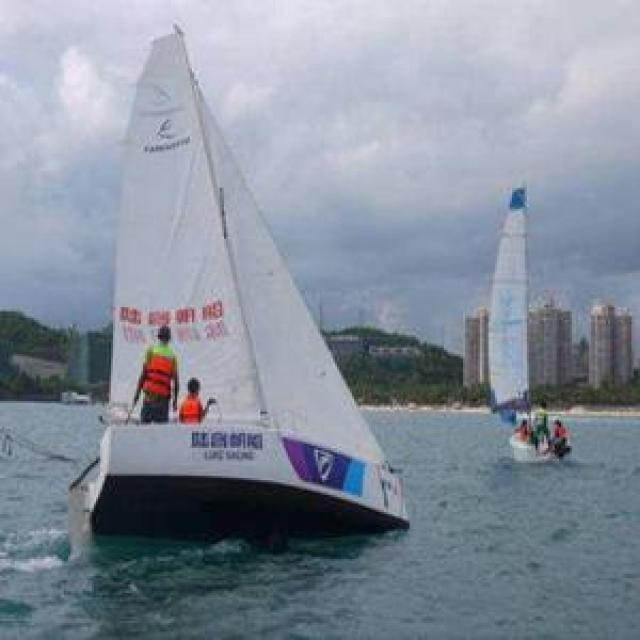sailboat: (83, 24, 427, 528), (468, 148, 588, 470)
